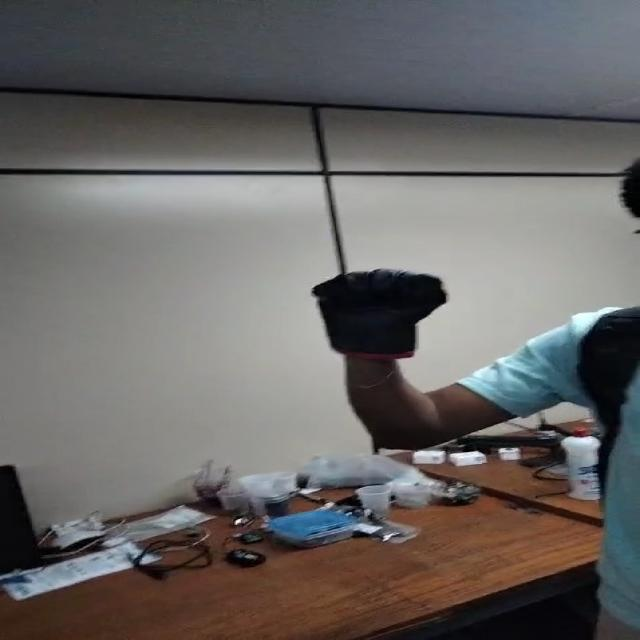Gloves: (315, 266, 449, 358)
